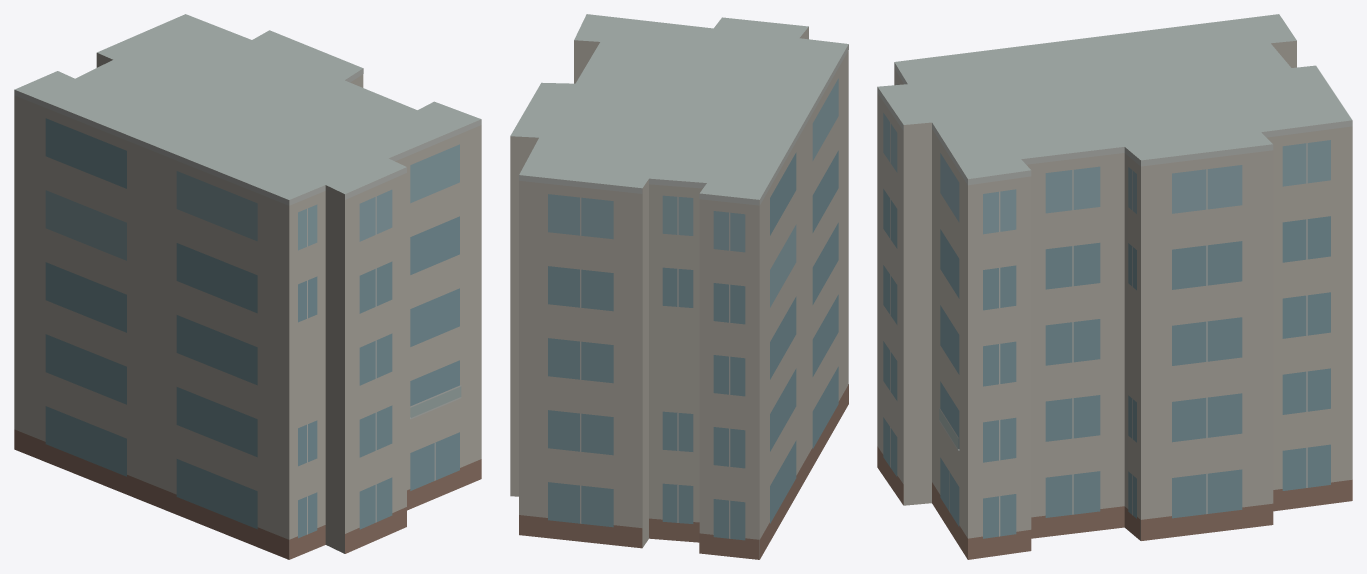
The model's file is survey-upis-32649299.glb.
The picture shows the model from 3 angles, left to right: view 1: azimuth 30°, elevation 25°; view 2: azimuth 150°, elevation 25°; view 3: azimuth 270°, elevation 25°; orthographic projection. The views are drawn at different scales.
Visible parts, largest first — view 1: survey-upis-32649299.tmp; view 2: survey-upis-32649299.tmp; view 3: survey-upis-32649299.tmp.
Part boxes in pixels (x1,y1,x2,y2): survey-upis-32649299.tmp: (14, 14, 481, 559); survey-upis-32649299.tmp: (510, 14, 848, 559); survey-upis-32649299.tmp: (877, 14, 1352, 559).
Size of the model in its own units: 14.2 by 15.25 by 17.26.
